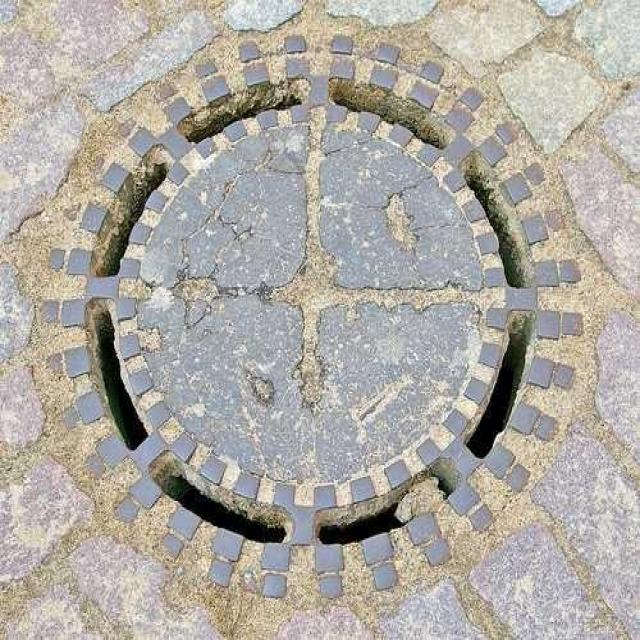manhole: (42, 24, 582, 598)
